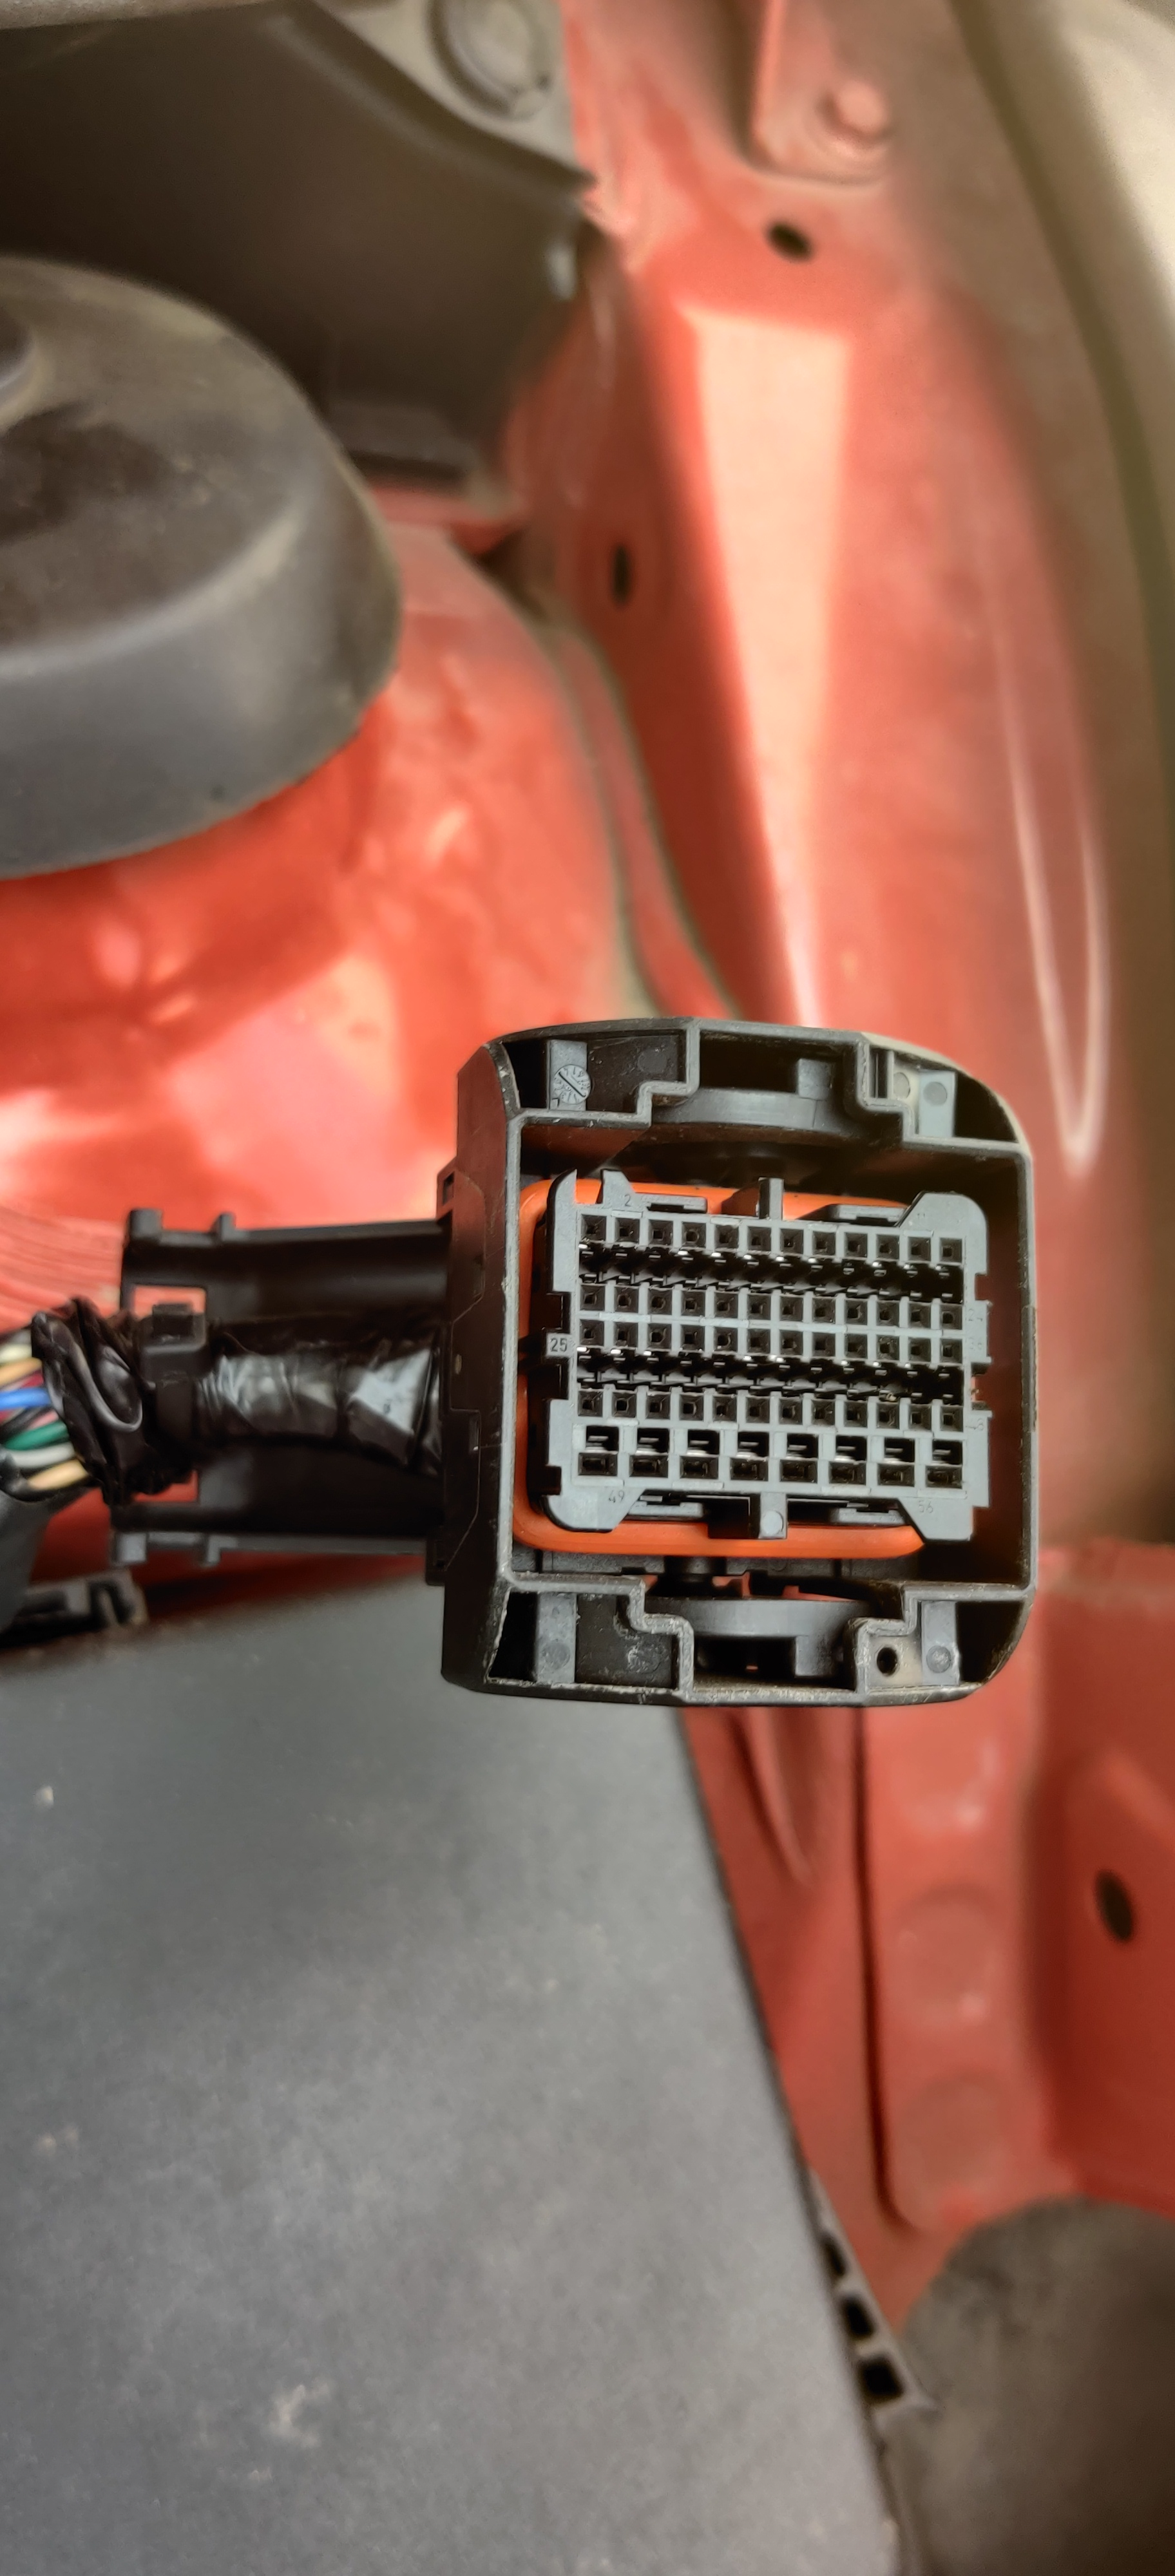connector: (330, 933, 1116, 1805)
